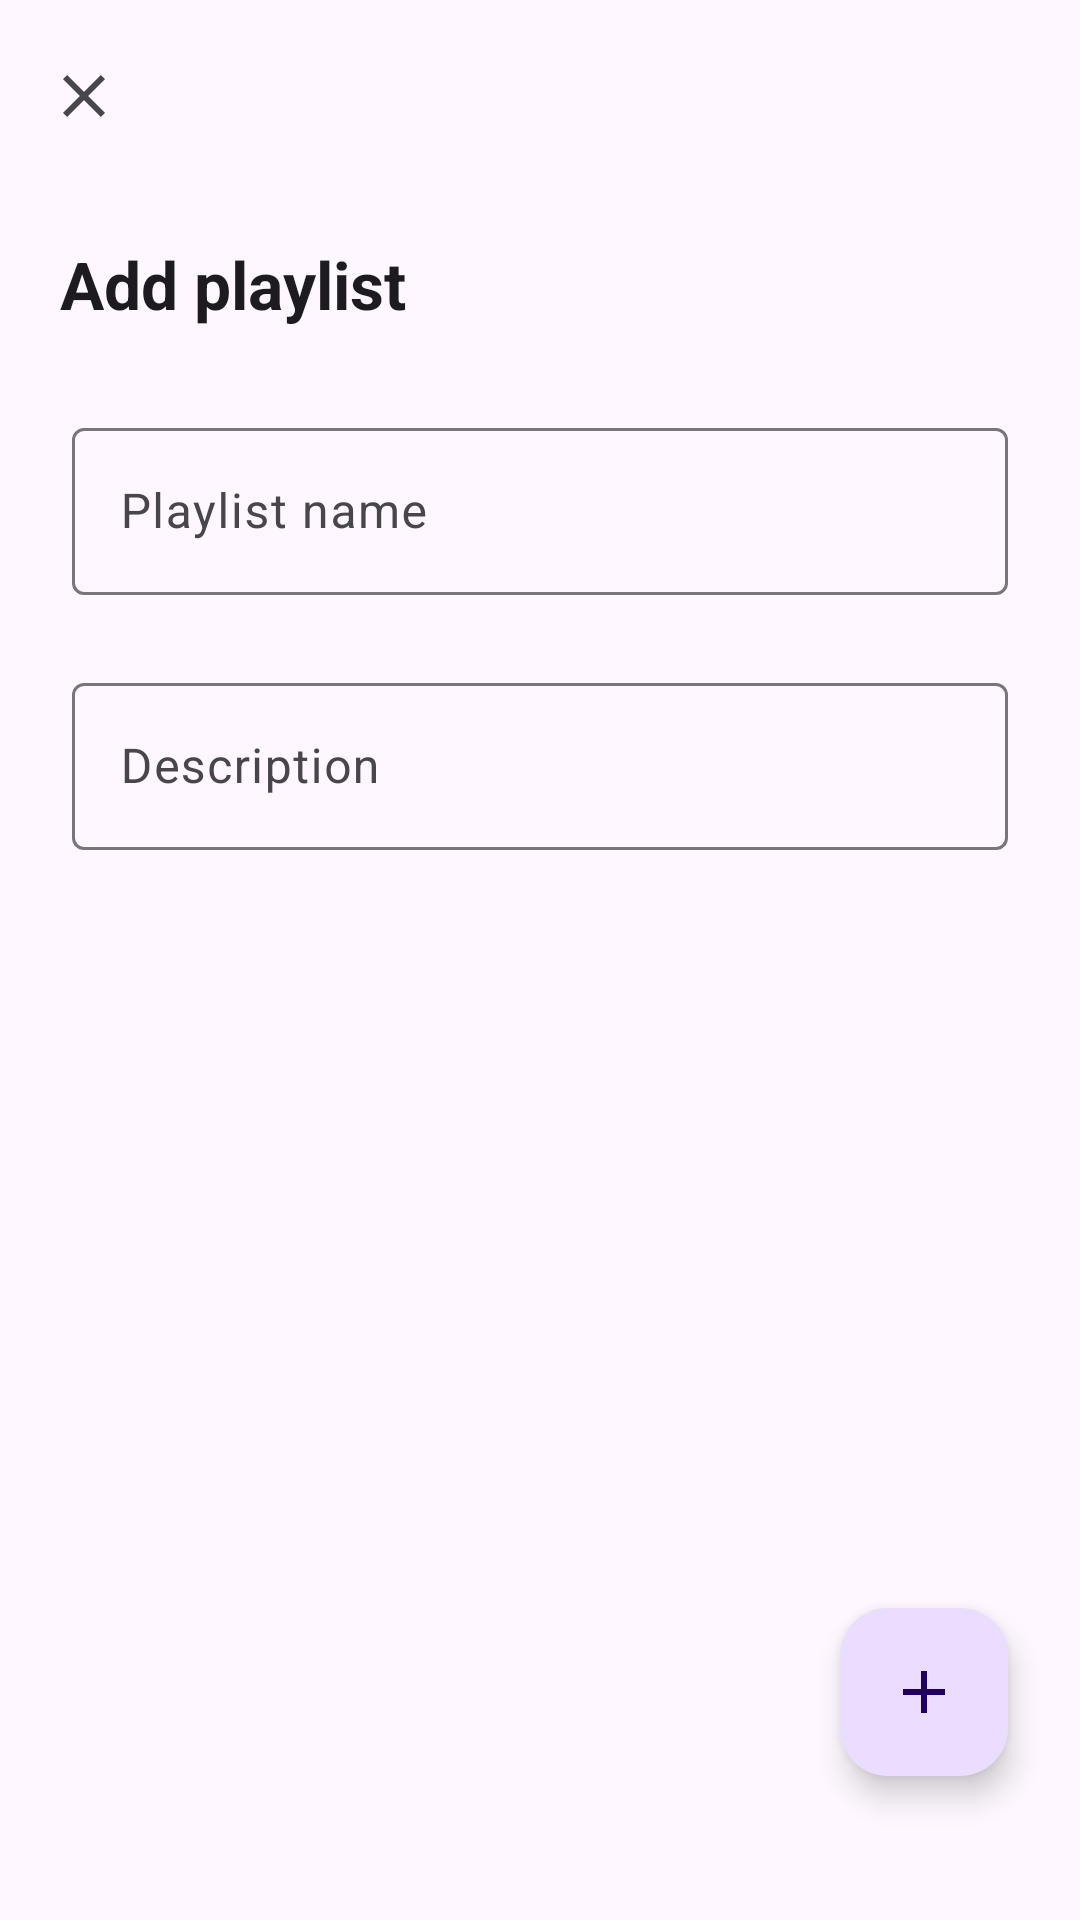

Named icons in this screenshot (1080*1920) and their centers, (x,y):
add: (924,1692)
